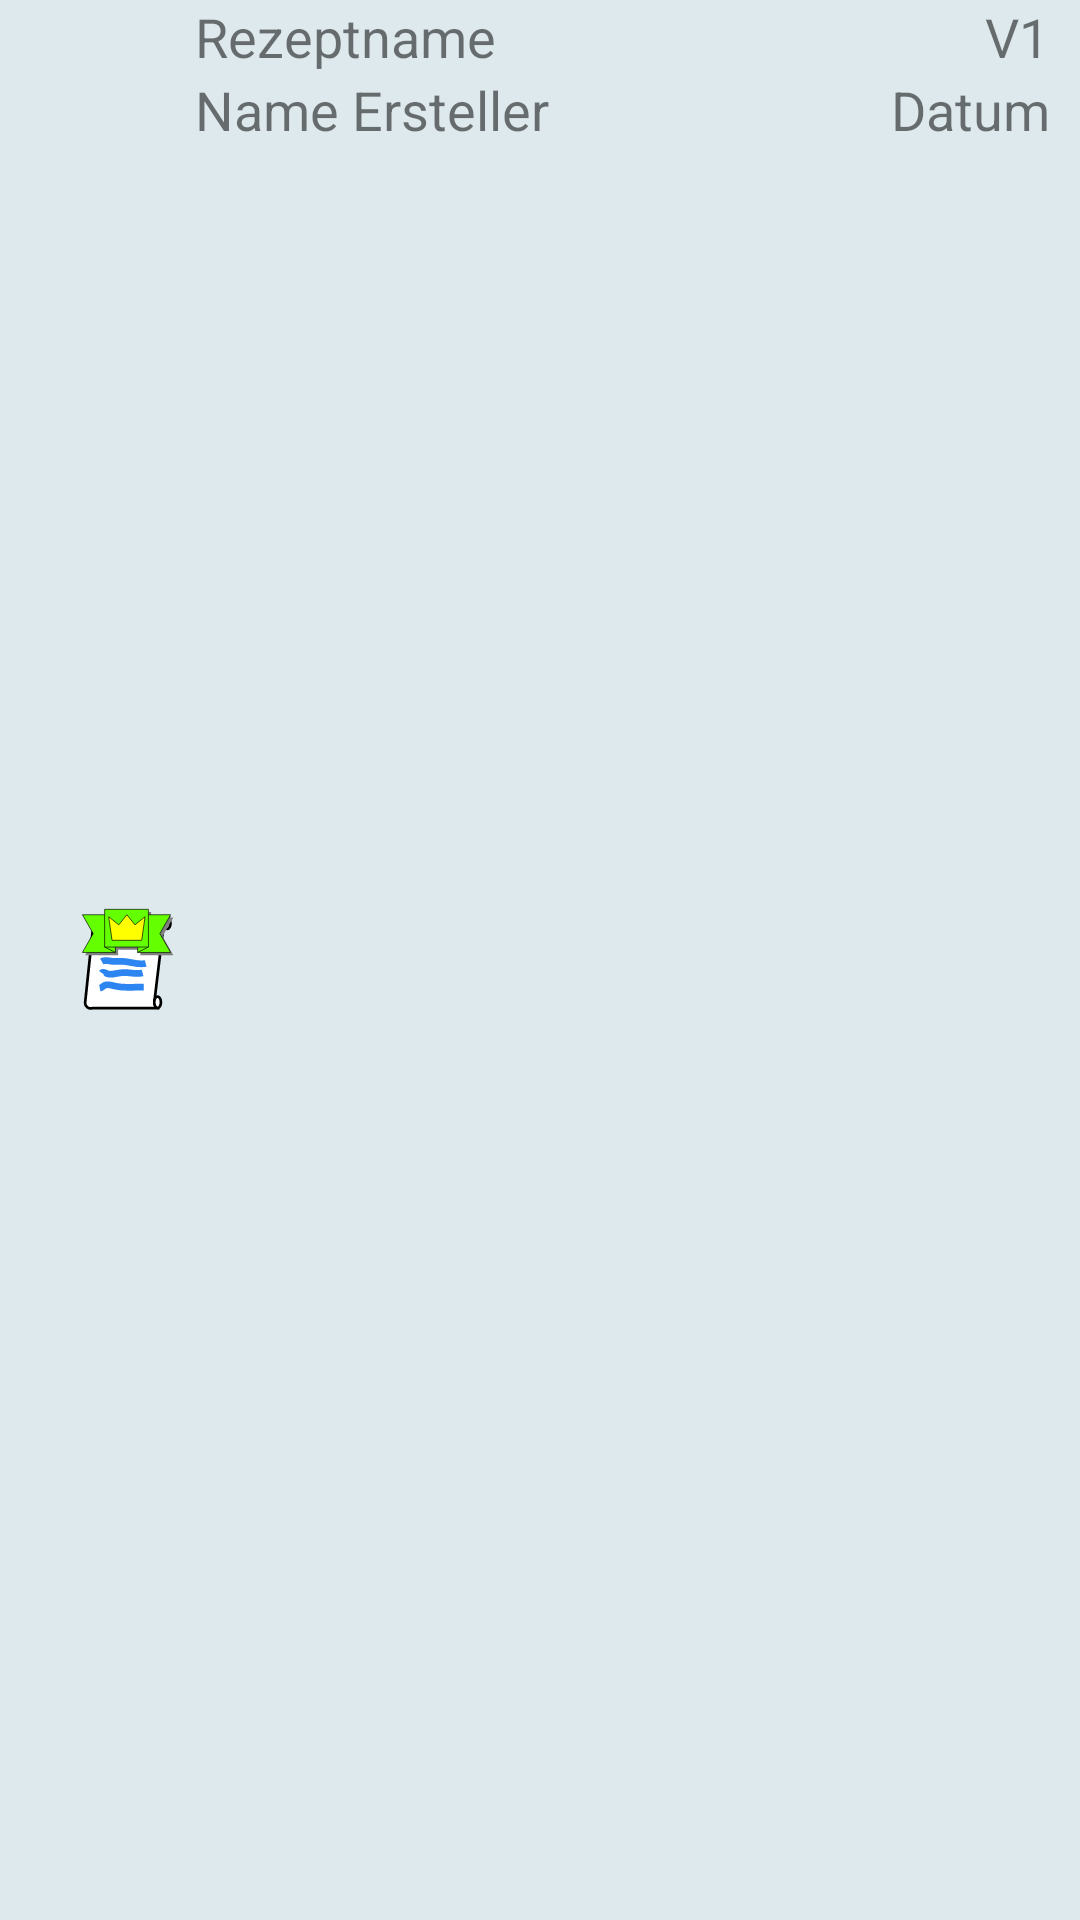

Screen size 1080 × 1920. Icon name, then its center in pixels as [x,y]:
rezept neu: [127,959]
